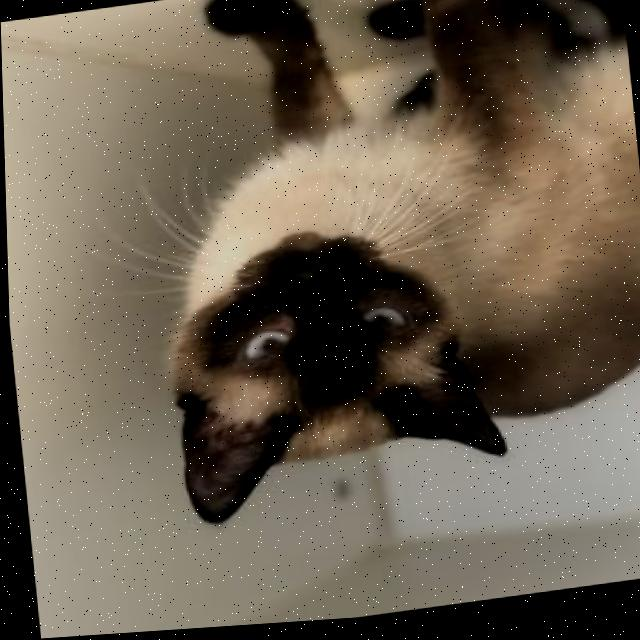Siamese: (125, 0, 640, 536)
